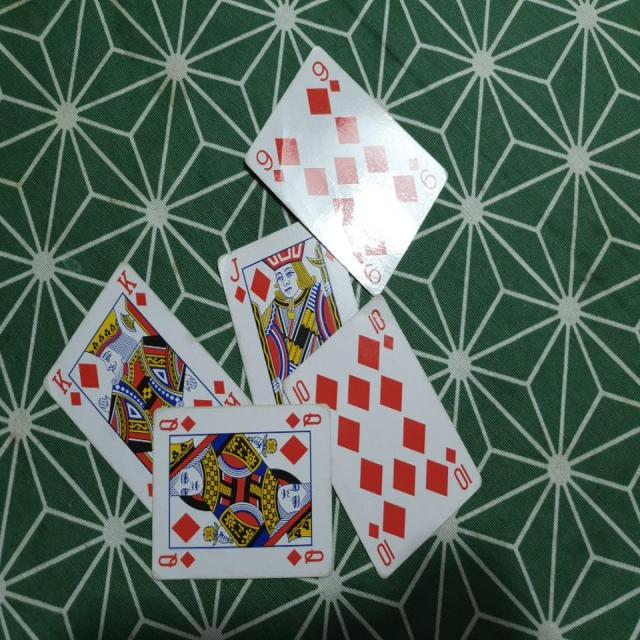10 Diamonds: (282, 292, 484, 580)
9 Diamonds: (242, 44, 447, 297)
J Diamonds: (218, 218, 360, 404)
K Diamonds: (42, 258, 252, 514)
Q Diamonds: (149, 400, 337, 579)
